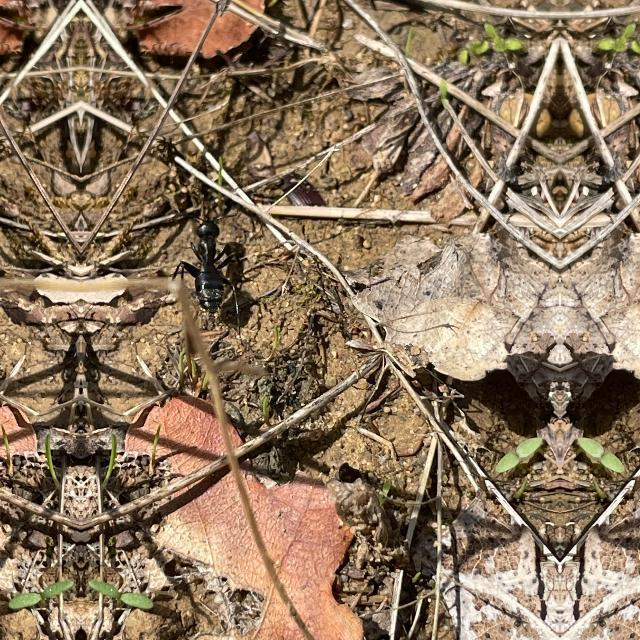Camponotus: (165, 206, 252, 326)
